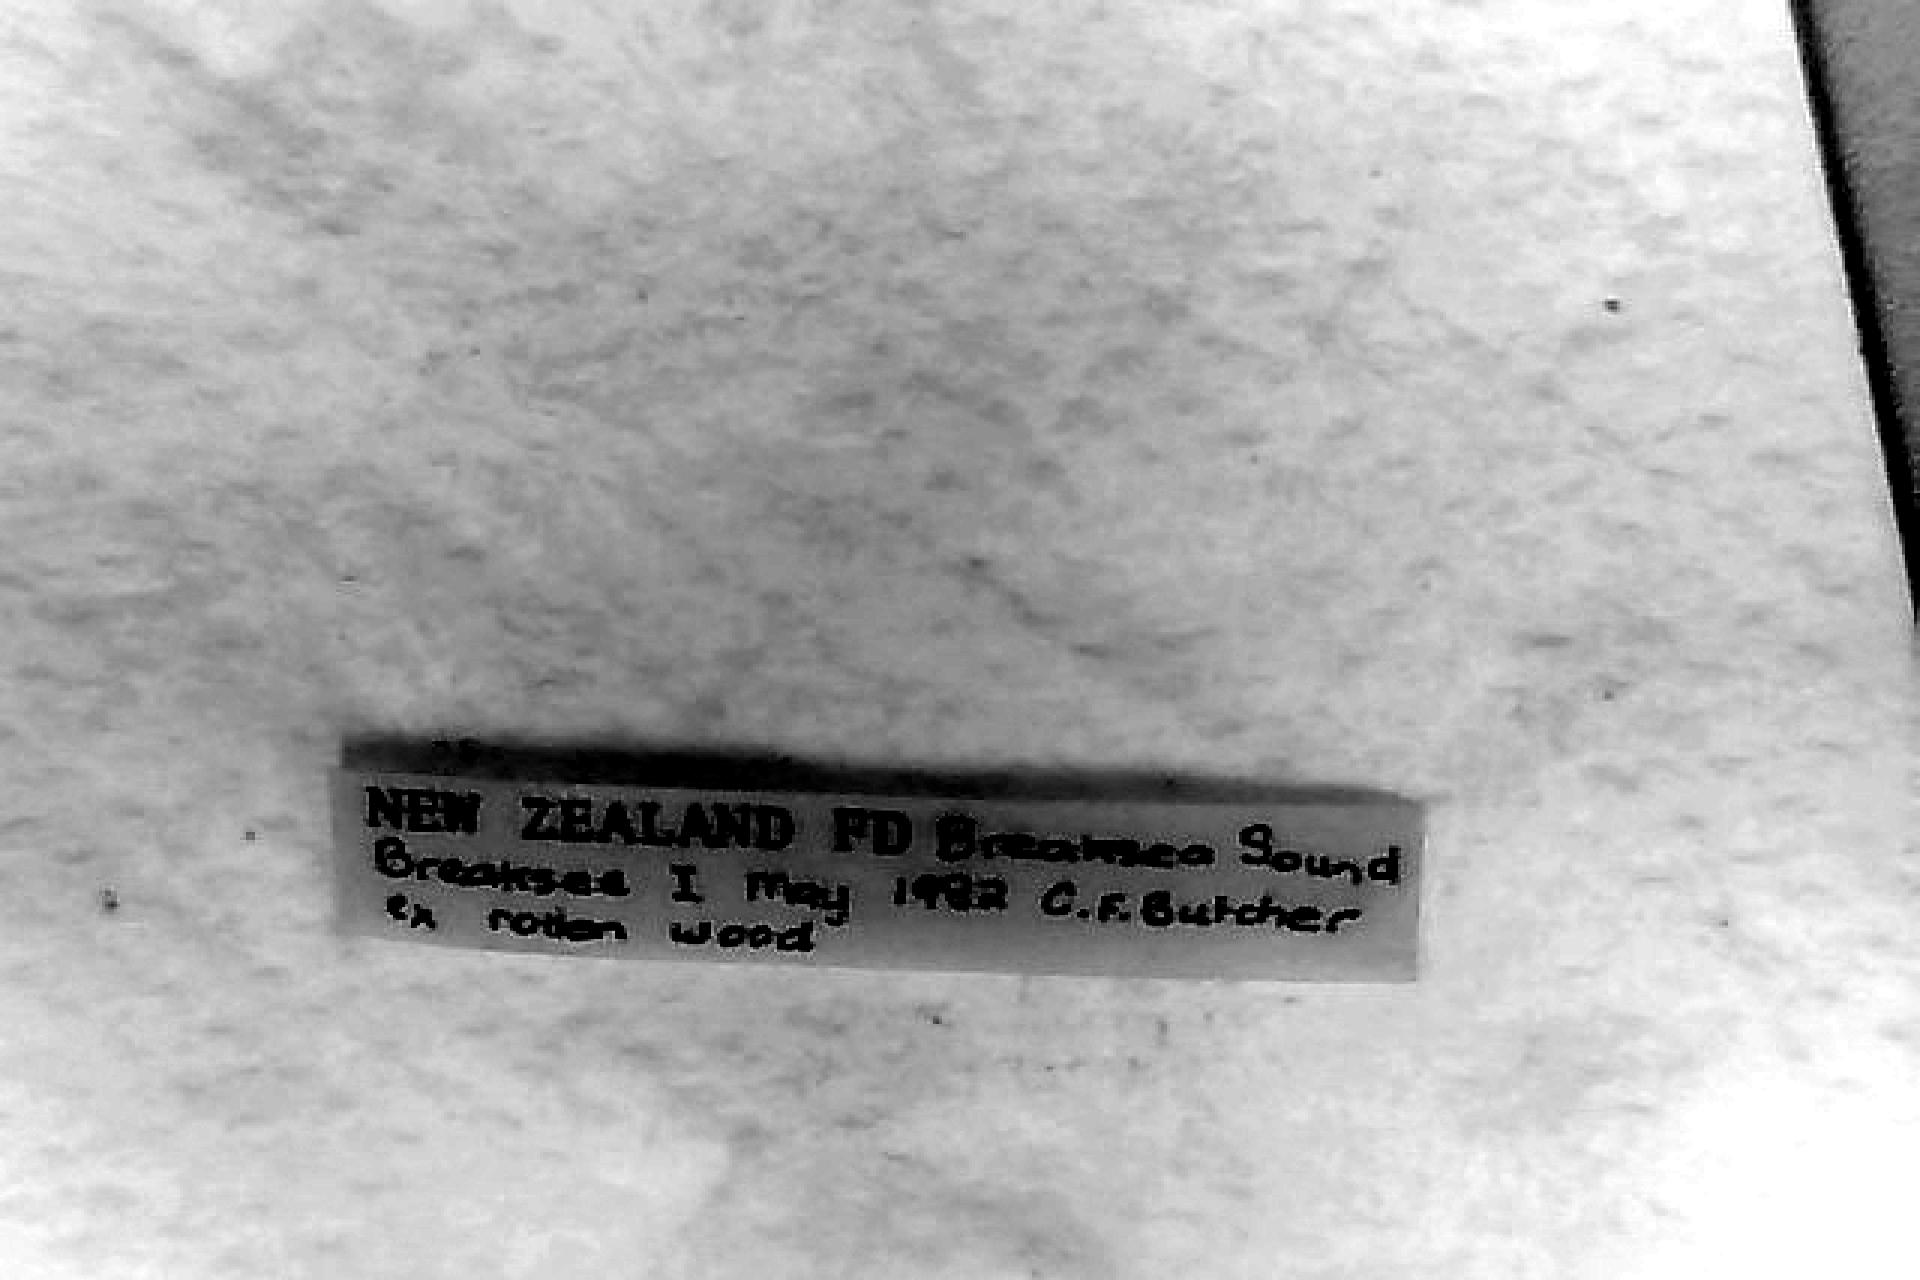mixed_label: (334, 737, 1421, 979)
